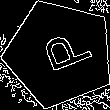P_W: (28, 27, 91, 80)
